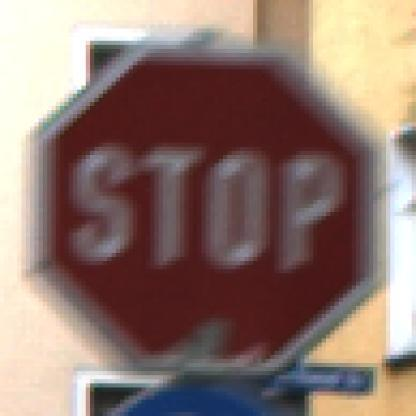Stop: (34, 49, 378, 377)
